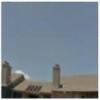chimneys: (2, 62, 12, 84), (52, 62, 60, 89)
